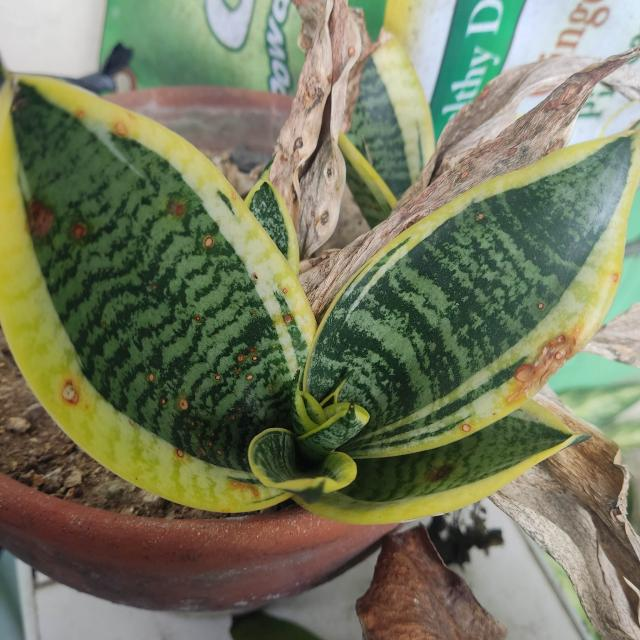blight: (130, 356, 264, 434), (492, 323, 588, 406), (23, 193, 100, 256), (163, 194, 226, 268), (49, 370, 103, 423)
